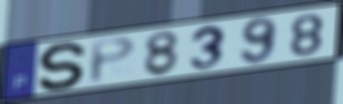3: (186, 23, 234, 72)
8: (143, 30, 182, 77), (290, 13, 326, 57)
9: (240, 15, 281, 66)
P: (88, 34, 139, 86)
S: (36, 41, 92, 91)
